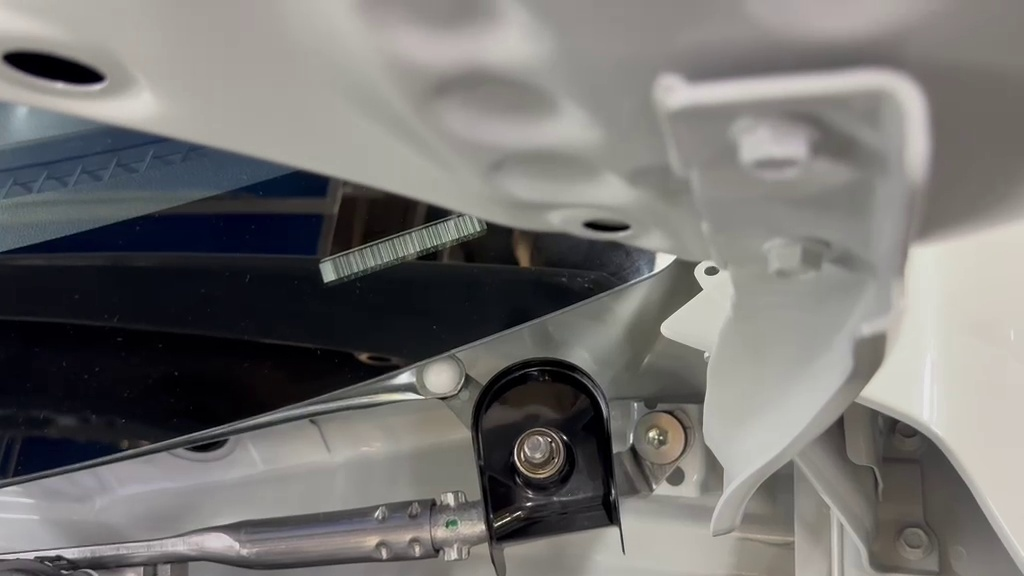barcode: (457, 352, 653, 576)
hinge: (301, 192, 508, 302)
